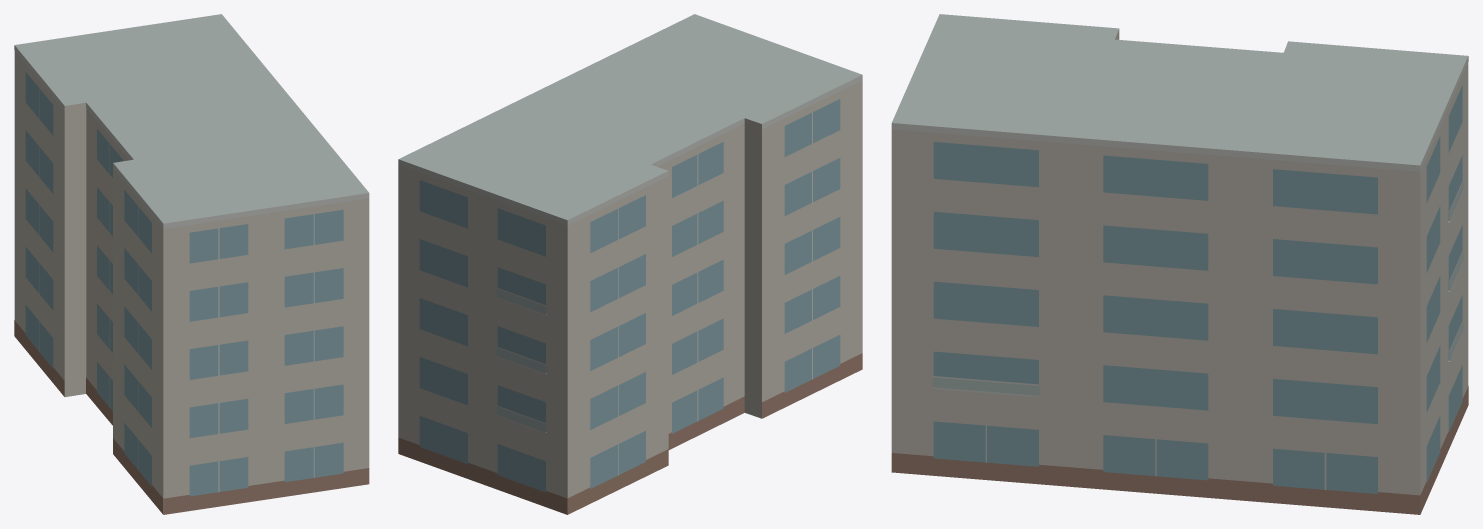
File: survey-upis-32528902.glb
3 renders of one model, left to right at view 1: azimuth 30°, elevation 25°; view 2: azimuth 150°, elevation 25°; view 3: azimuth 270°, elevation 25°, orthographic. The views are drawn at different scales.
Visible parts, largest first — view 1: survey-upis-32528902.tmp; view 2: survey-upis-32528902.tmp; view 3: survey-upis-32528902.tmp.
Boxes of the visible parts, x1=… form: survey-upis-32528902.tmp: x1=14, y1=14, x2=369, y2=514; survey-upis-32528902.tmp: x1=398, y1=14, x2=862, y2=514; survey-upis-32528902.tmp: x1=891, y1=14, x2=1468, y2=514.
Bounding box in the file's own units: 12.51 × 13.45 × 20.13.
